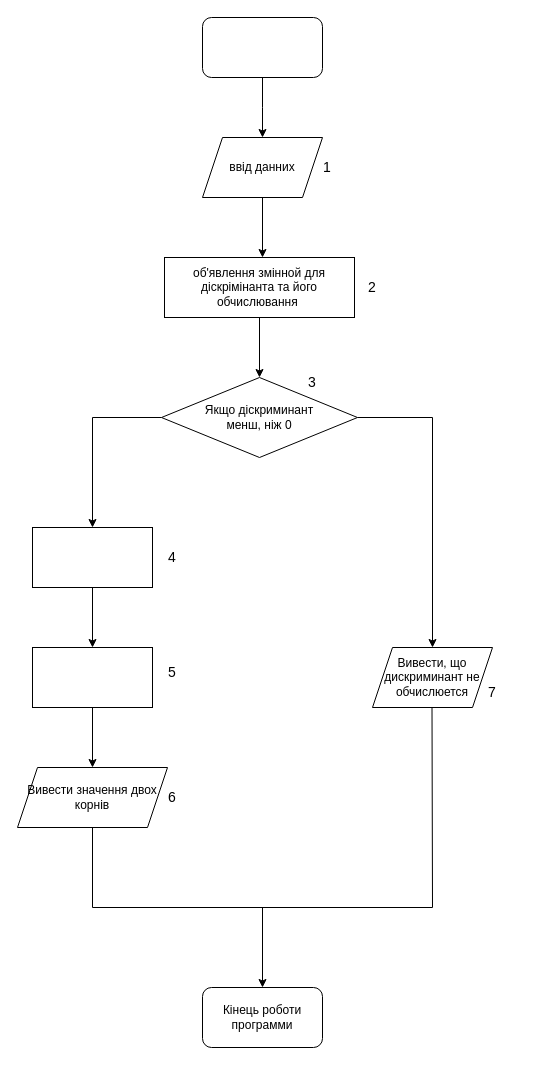
Image size: 540x1065. Some labels were removed from this diagram. Each missing label, with the centre of its shape:
обчислення другого коріння: point (92, 677)
обчислювання першого коріння: point (92, 557)
Початок програми: point (262, 47)
